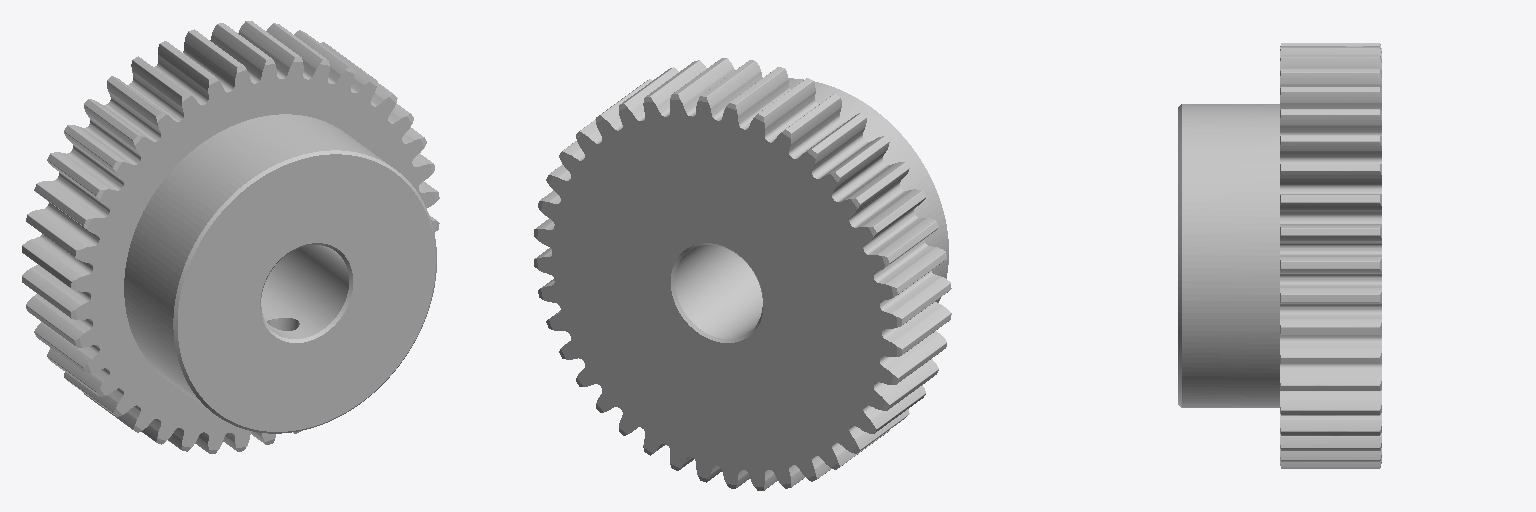
Rendered from industreal_gear_medium.obj.
3 views of the same model, side by side, from view 1: azimuth 30°, elevation 25°; view 2: azimuth 150°, elevation 25°; view 3: azimuth 270°, elevation 25° (orthographic).
Parts seen in each view (by area): view 1: mesh8, mesh562, mesh0, mesh11, mesh3, mesh1, mesh12, mesh2, mesh450, mesh346, mesh443, mesh353 (+6 smaller); view 2: mesh15, mesh11, mesh0, mesh12, mesh346, mesh450, mesh443, mesh353, mesh436, mesh360, mesh429, mesh367 (+2 smaller); view 3: mesh0, mesh3, mesh430, mesh534, mesh437, mesh444, mesh451, mesh520, mesh527, mesh541, mesh513, mesh458 (+19 smaller).
Part boxes in pixels (left/top/right/bottom): mesh8: left=178, top=154, right=435, bottom=431; mesh562: left=76, top=62, right=435, bottom=449; mesh0: left=125, top=114, right=388, bottom=312; mesh11: left=261, top=248, right=348, bottom=338; mesh3: left=124, top=278, right=209, bottom=410; mesh1: left=174, top=150, right=436, bottom=313; mesh12: left=299, top=245, right=348, bottom=284; mesh2: left=173, top=271, right=436, bottom=433; mesh450: left=266, top=24, right=321, bottom=67; mesh346: left=34, top=323, right=90, bottom=366; mesh443: left=240, top=21, right=294, bottom=66; mesh353: left=26, top=297, right=82, bottom=340; mesh15: left=537, top=100, right=896, bottom=486; mesh11: left=675, top=248, right=762, bottom=338; mesh0: left=789, top=78, right=948, bottom=247; mesh12: left=675, top=245, right=724, bottom=284; mesh346: left=883, top=360, right=938, bottom=404; mesh450: left=651, top=61, right=706, bottom=105; mesh443: left=679, top=59, right=732, bottom=103; mesh353: left=890, top=334, right=946, bottom=377; mesh436: left=707, top=62, right=760, bottom=107; mesh360: left=893, top=306, right=950, bottom=348; mesh429: left=736, top=69, right=787, bottom=114; mesh367: left=893, top=277, right=950, bottom=317; mesh0: left=1182, top=104, right=1279, bottom=330; mesh3: left=1182, top=331, right=1279, bottom=407; mesh430: left=1280, top=58, right=1381, bottom=68; mesh534: left=1280, top=437, right=1381, bottom=447; mesh437: left=1280, top=73, right=1381, bottom=82; mesh444: left=1280, top=92, right=1381, bottom=101; mesh451: left=1280, top=115, right=1381, bottom=124; mesh520: left=1280, top=400, right=1381, bottom=409; mesh527: left=1280, top=421, right=1381, bottom=430; mesh541: left=1280, top=449, right=1381, bottom=459; mesh513: left=1280, top=376, right=1381, bottom=384; mesh458: left=1280, top=142, right=1381, bottom=150.
Bounding box in the file's own units: 0.0419 × 0.0419 × 0.02.